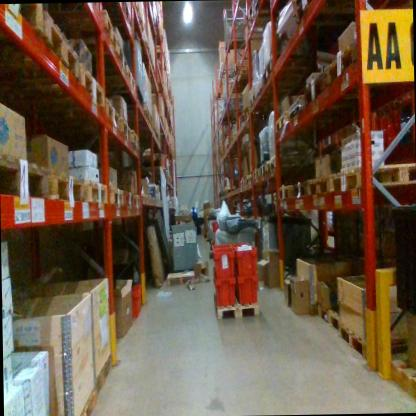pallet: (324, 153, 414, 205), (336, 311, 412, 361), (36, 8, 81, 76), (261, 49, 325, 93), (1, 155, 52, 210), (289, 0, 373, 33), (325, 34, 367, 94), (78, 10, 123, 59), (383, 347, 416, 406), (210, 290, 264, 325), (0, 6, 43, 47), (47, 169, 89, 210), (75, 60, 104, 112), (266, 150, 307, 181), (103, 65, 138, 100), (313, 291, 339, 335), (304, 61, 326, 111), (84, 173, 110, 213), (162, 265, 200, 290), (307, 167, 332, 203), (75, 378, 98, 416), (95, 354, 115, 396), (240, 2, 275, 24), (287, 92, 308, 124), (109, 179, 126, 213), (117, 4, 135, 36), (102, 94, 116, 135), (116, 39, 131, 73), (234, 57, 254, 80), (117, 113, 132, 141), (129, 2, 144, 30), (122, 184, 136, 211), (291, 178, 308, 200), (274, 110, 287, 138), (247, 79, 256, 117), (276, 186, 293, 203), (143, 105, 155, 128), (253, 161, 262, 190), (244, 171, 255, 194), (133, 129, 142, 156), (132, 187, 142, 211), (261, 155, 270, 181), (242, 97, 250, 126), (238, 175, 249, 196), (256, 73, 263, 104)
small_load_carrier: (232, 243, 261, 280), (213, 271, 238, 310), (237, 273, 261, 310), (124, 282, 146, 322), (212, 248, 234, 280)
